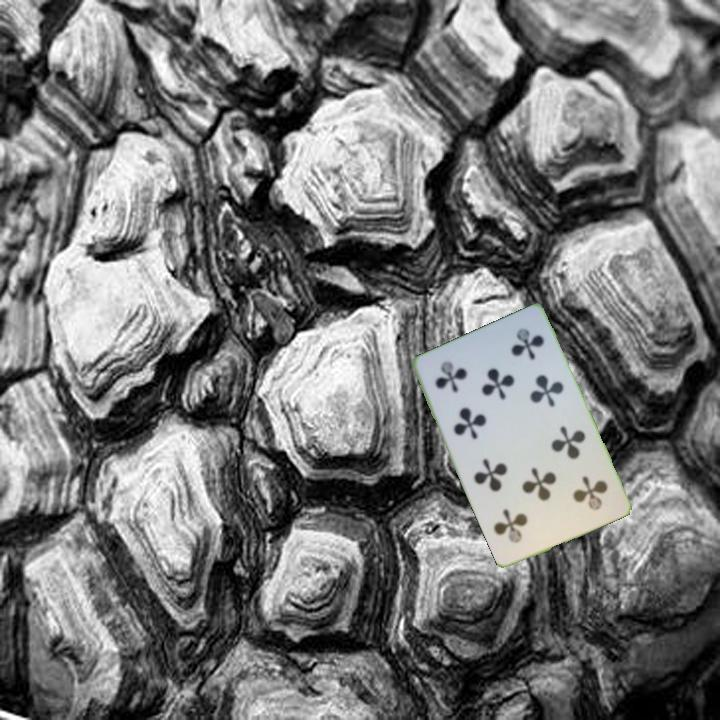c_10.png: (420, 339, 503, 418), (538, 454, 621, 533)
